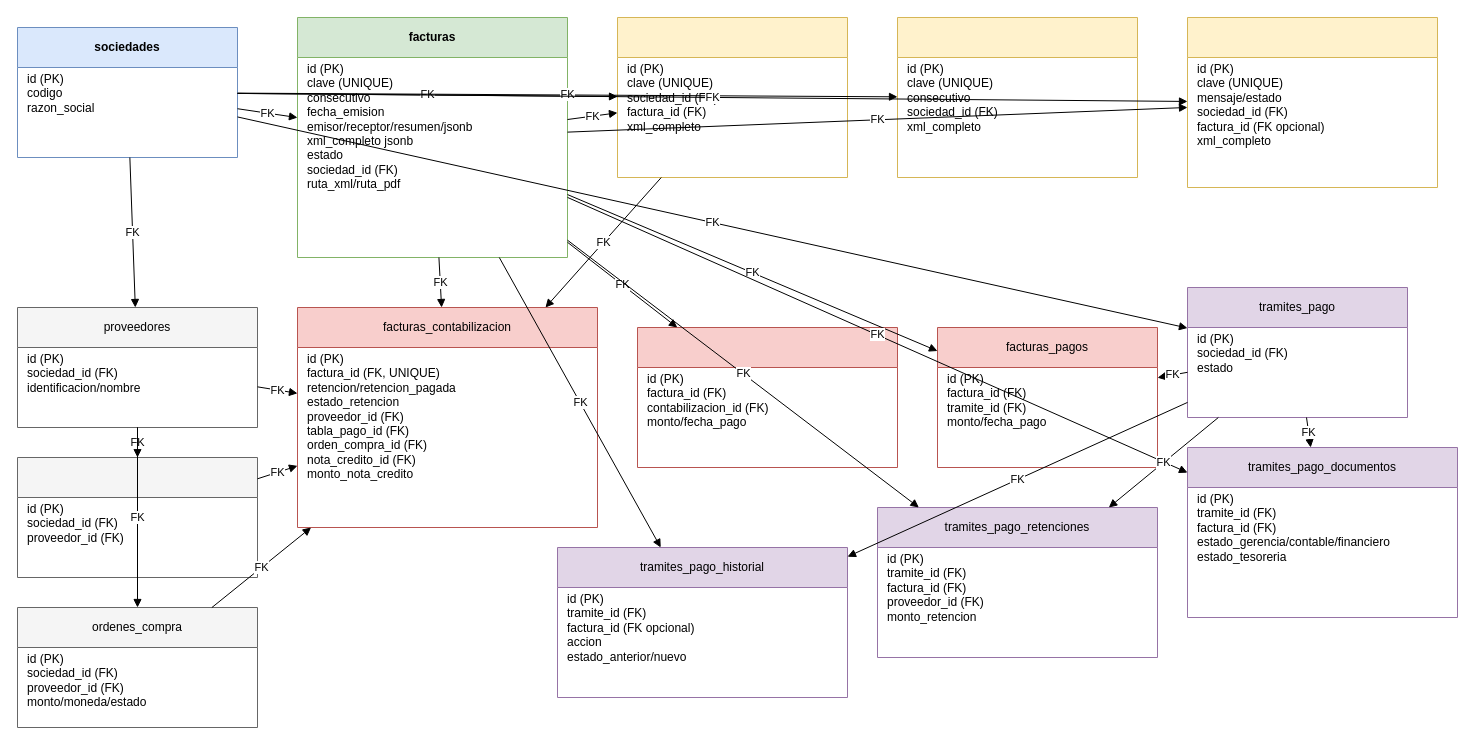
Some shapes in this 1475 by 745 pixel diagram are drawn without their labels. Each missing label, with the box of its shape:
facturas_retenciones_pagos: (636, 326, 898, 468)
mensajes_hacienda: (1186, 16, 1438, 188)
notas_credito: (616, 16, 848, 178)
tablas_pago: (16, 456, 258, 578)
tiquetes_electronicos: (896, 16, 1138, 178)
